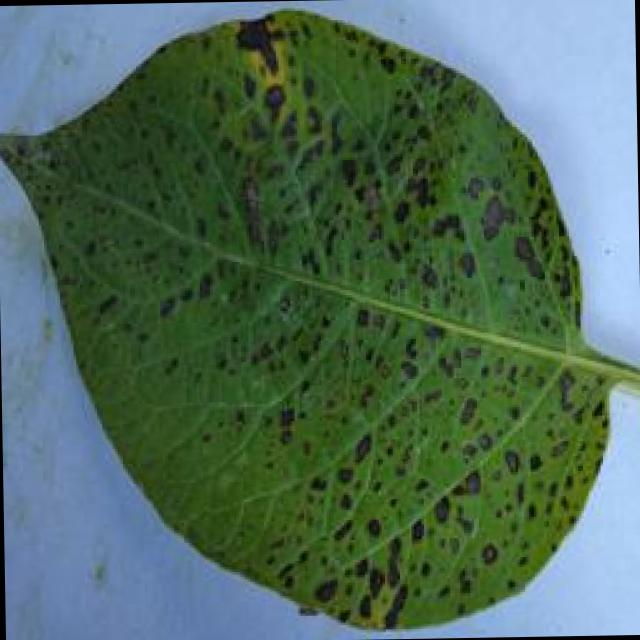Potato_Early_Blight: (11, 0, 640, 625)
